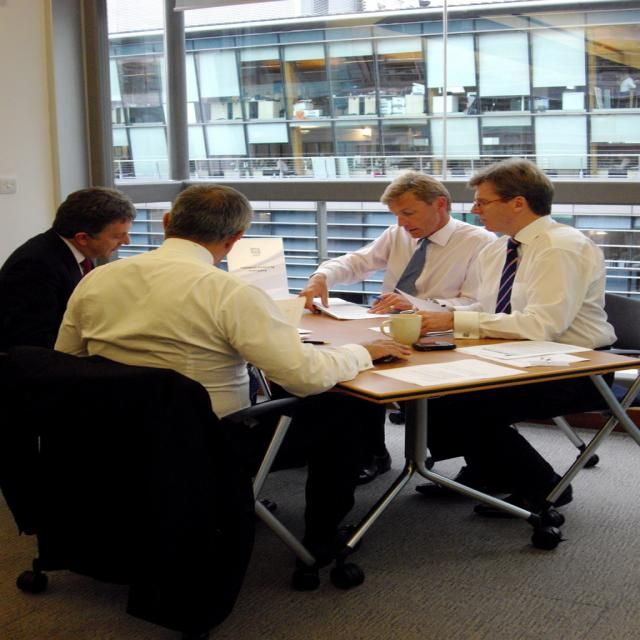chair: (0, 344, 289, 640)
desk: (245, 297, 634, 580)
person: (56, 184, 403, 591), (393, 158, 624, 534), (294, 172, 498, 316), (0, 186, 136, 354)
